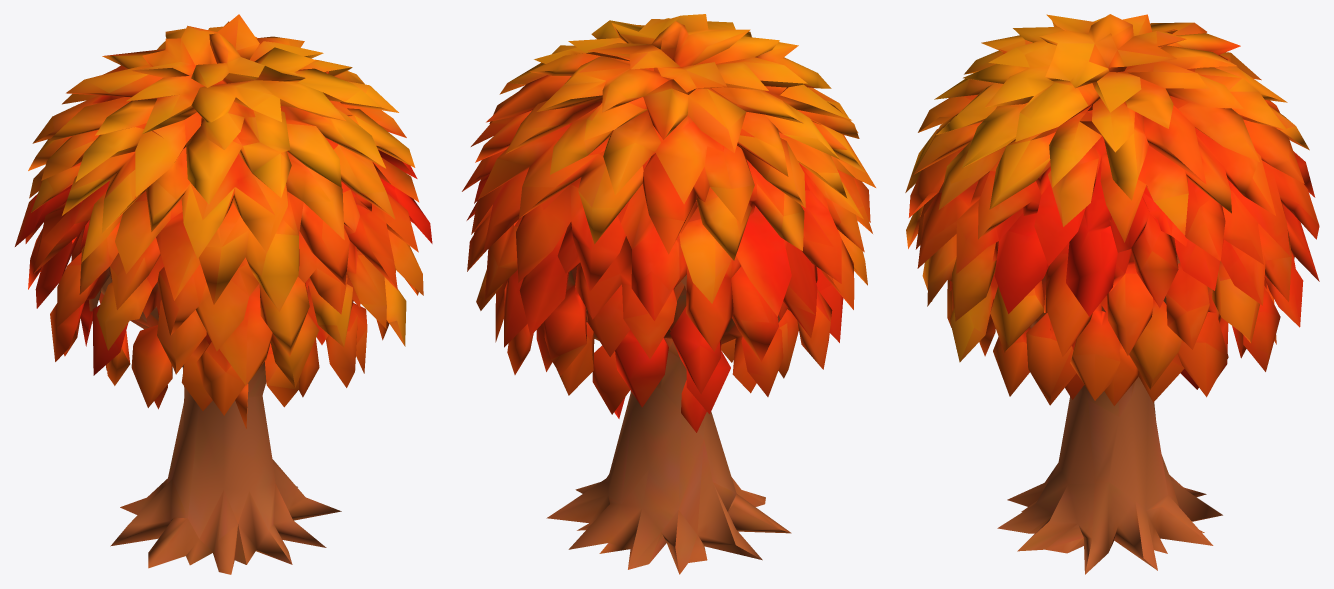
The model's file is tree_autumn.glb.
The picture shows the model from 3 angles, left to right: view 1: azimuth 30°, elevation 25°; view 2: azimuth 150°, elevation 25°; view 3: azimuth 270°, elevation 25°; orthographic projection.
Parts seen in each view (by area): view 1: tripo_node_16fedd0f-b9ad-43a3-a88a-498c10222b4e; view 2: tripo_node_16fedd0f-b9ad-43a3-a88a-498c10222b4e; view 3: tripo_node_16fedd0f-b9ad-43a3-a88a-498c10222b4e.
Part boxes in pixels (x1,y1,x2,y2): tripo_node_16fedd0f-b9ad-43a3-a88a-498c10222b4e: (15, 14, 432, 574); tripo_node_16fedd0f-b9ad-43a3-a88a-498c10222b4e: (462, 14, 875, 574); tripo_node_16fedd0f-b9ad-43a3-a88a-498c10222b4e: (905, 14, 1319, 574).
Bounding box in the file's own units: 3.64 × 4.8 × 3.55.
1 material, 1 textured.
